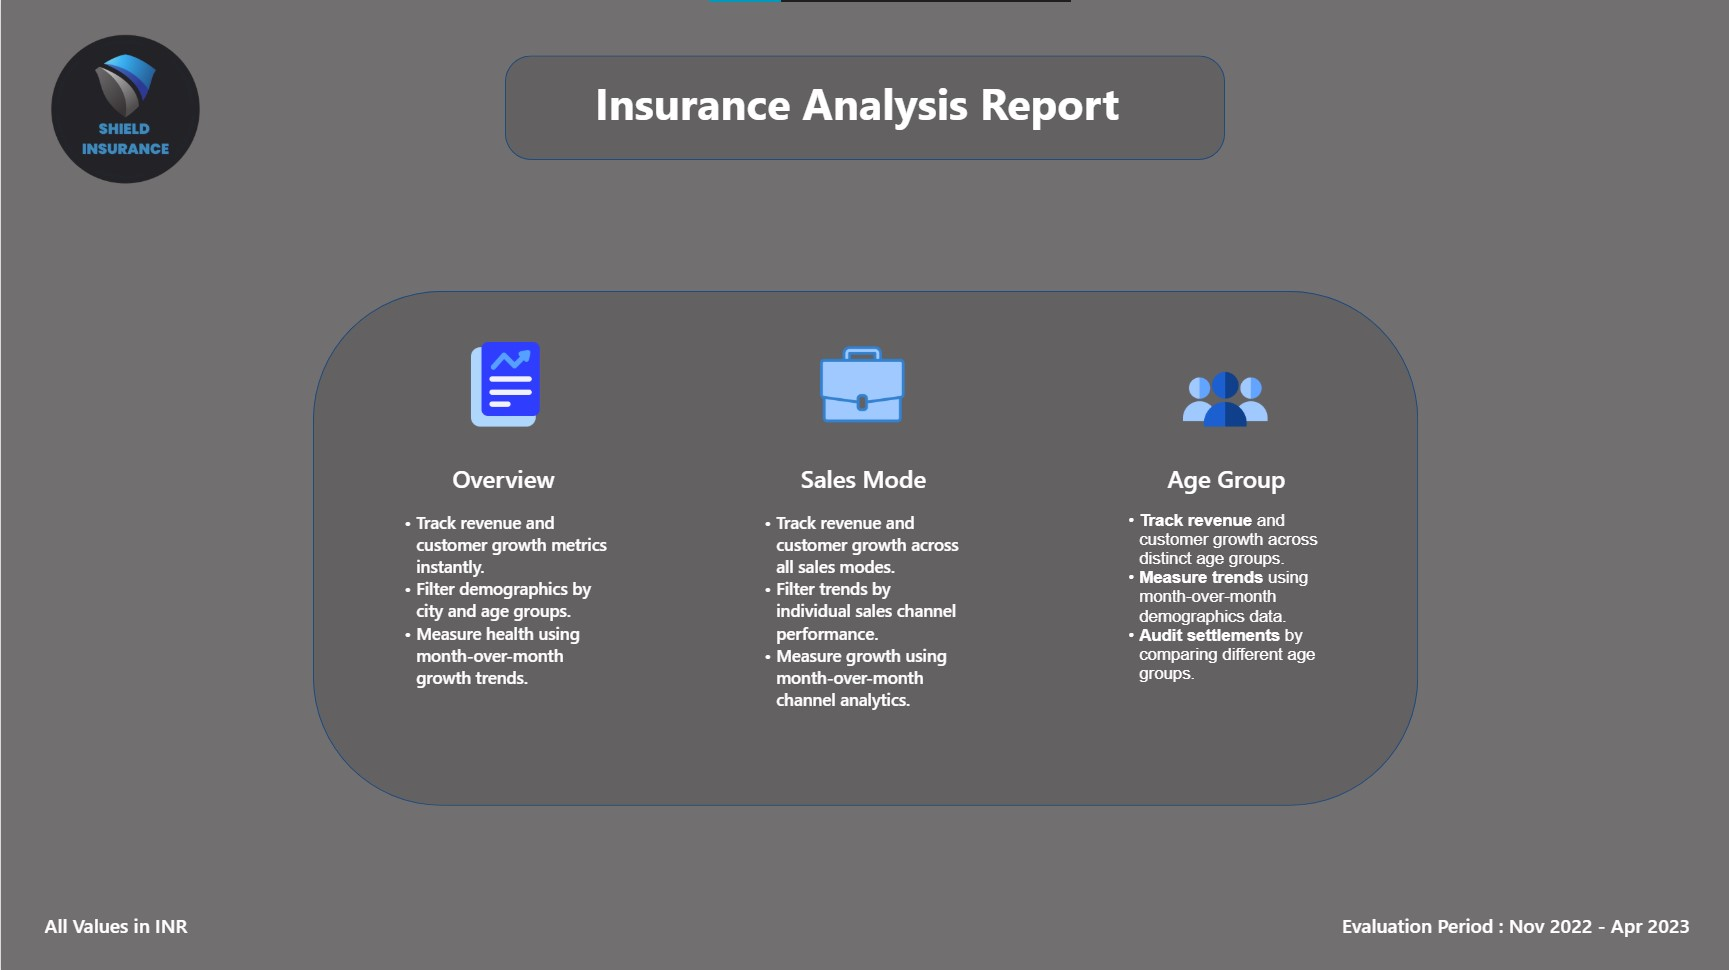

The dashboard page shown, as its layout file describes it:
{"tool":"powerbi","page":{"name":" Home","canvas":[1920,1080],"ordinal":0},"visuals":[{"type":"shape","box":[346,324,1228,572],"z":0},{"type":"image","box":[1290,396,140,94],"z":1000},{"type":"image","box":[887,380,140,94],"z":2000},{"type":"image","box":[490,380,140,94],"z":3000},{"type":"image","box":[48,30,180,182],"z":4000},{"type":"shape","box":[560,62,800,116],"z":5000},{"type":"textbox","box":[660,82,600,74],"z":6000},{"type":"textbox","box":[444,514,230,308],"z":7000},{"type":"textbox","box":[1246,514,230,358],"z":8000},{"type":"textbox","box":[844,514,230,334],"z":9000},{"type":"textbox","box":[48,1014,180,40],"z":10000},{"type":"textbox","box":[1490.6,1014,409.9,39.2],"z":11000}]}

Visuals, with their boxes in screenshot pixels (x1, y1, x2, y2), scaled from the page's 1920x1080 canvas onto the 1729x970 screenshot:
shape: box=[312, 291, 1417, 805]
image: box=[1162, 356, 1288, 440]
image: box=[799, 341, 925, 426]
image: box=[441, 341, 567, 426]
image: box=[43, 27, 205, 190]
shape: box=[504, 56, 1225, 160]
textbox: box=[594, 74, 1135, 140]
textbox: box=[400, 462, 607, 738]
textbox: box=[1122, 462, 1329, 783]
textbox: box=[760, 462, 967, 762]
textbox: box=[43, 911, 205, 947]
textbox: box=[1342, 911, 1711, 946]
